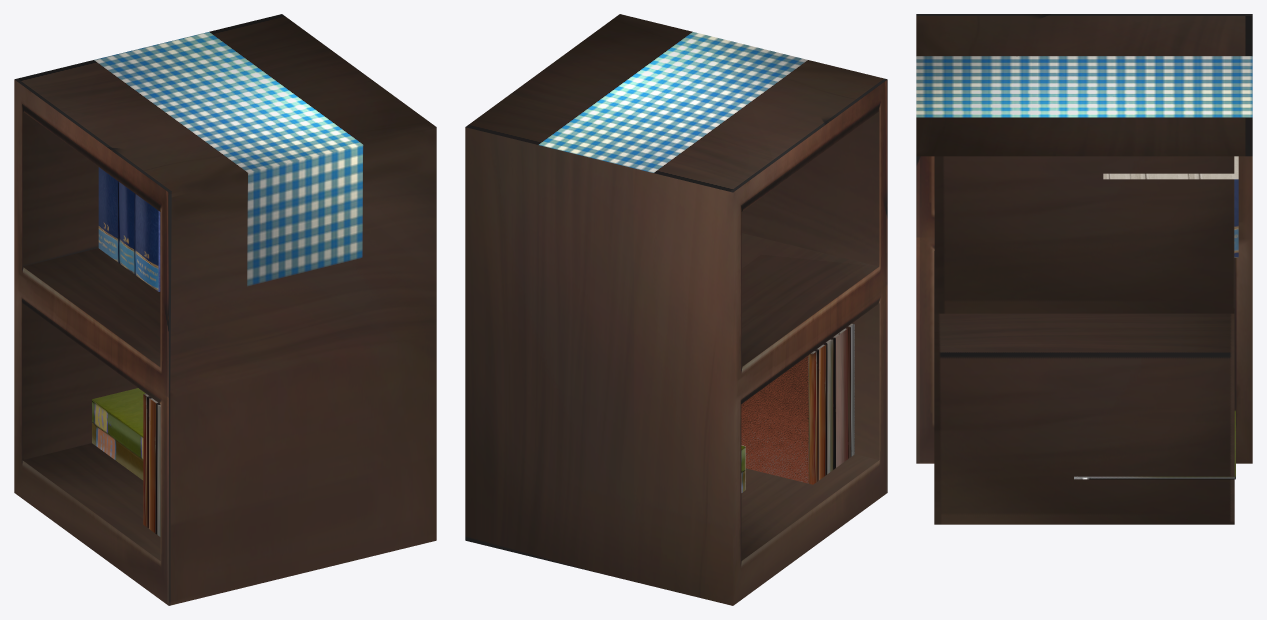
Rendered from 5_8_Shelf.gltf.
3 views of the same model, side by side, from view 1: azimuth 30°, elevation 25°; view 2: azimuth 150°, elevation 25°; view 3: azimuth 270°, elevation 25° (orthographic). The views are drawn at different scales.
Visible parts, largest first — view 1: Cube.003, Cube.010, Cube.008, Cube.004; view 2: Cube.003, Cube.004; view 3: Cube.003, Cube.010, Cube.008.
Part boxes in pixels (x1,y1,x2,y2): Cube.003: (14,14,436,605); Cube.010: (98,167,160,291); Cube.008: (92,388,145,480); Cube.004: (143,393,160,536); Cube.003: (465,14,887,605); Cube.004: (741,323,854,484); Cube.003: (916,14,1252,524); Cube.010: (1103,156,1238,257); Cube.008: (1074,410,1235,479).
Size of the model in its own units: 4.16 by 6.13 by 4.16.
2 materials, 2 textured.
